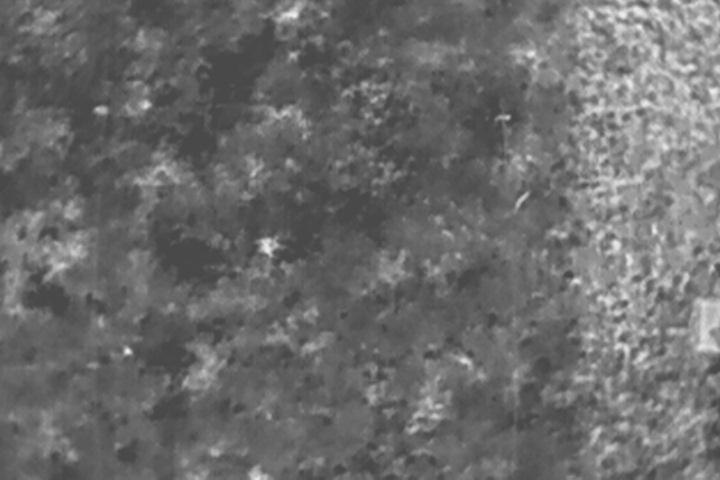landmine: (254, 235, 281, 258)
